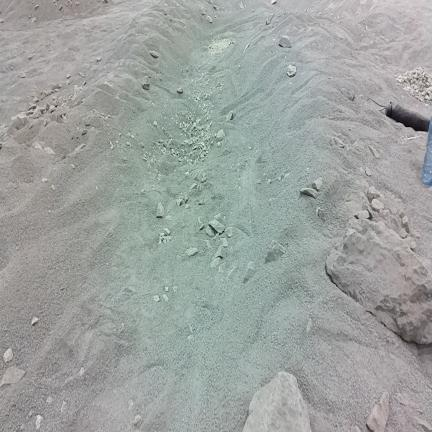Rock: (326, 219, 431, 343), (243, 372, 311, 431), (397, 68, 431, 104), (367, 392, 389, 431), (0, 367, 25, 388), (309, 413, 334, 431), (265, 241, 285, 263), (346, 198, 363, 215), (13, 113, 29, 130), (396, 393, 415, 406), (366, 186, 380, 202), (244, 262, 255, 282), (209, 219, 224, 233), (212, 245, 226, 260), (416, 418, 431, 431), (159, 228, 171, 244), (341, 88, 355, 101), (300, 188, 318, 198), (371, 199, 384, 212), (312, 177, 323, 191), (330, 137, 345, 147), (194, 170, 206, 182), (32, 107, 44, 119), (355, 210, 370, 219), (279, 36, 291, 47), (49, 112, 61, 123), (369, 146, 380, 158), (402, 215, 409, 233), (4, 348, 13, 362), (206, 225, 216, 237), (186, 247, 198, 257), (74, 143, 86, 153), (216, 129, 225, 142), (211, 257, 221, 268), (227, 266, 237, 277), (287, 65, 296, 77), (316, 207, 325, 219), (134, 415, 142, 428), (142, 76, 150, 89), (157, 203, 164, 217), (266, 13, 274, 25), (306, 319, 312, 333), (36, 415, 42, 429), (346, 91, 354, 101), (44, 147, 54, 155), (78, 366, 86, 376), (33, 142, 43, 150), (367, 206, 373, 219), (400, 229, 408, 238), (389, 206, 397, 215), (163, 4, 169, 15), (150, 51, 159, 58), (61, 401, 66, 413), (226, 227, 232, 237), (227, 110, 233, 120), (176, 198, 183, 206), (189, 183, 197, 190), (52, 83, 60, 90), (365, 167, 371, 176), (222, 238, 228, 247), (214, 213, 221, 220), (27, 410, 33, 418), (32, 317, 38, 325), (201, 6, 206, 15), (244, 44, 249, 53), (351, 426, 360, 431), (154, 295, 160, 302), (399, 211, 405, 218), (177, 87, 183, 94), (164, 228, 170, 235), (47, 396, 52, 404), (207, 15, 212, 23), (163, 294, 168, 302), (20, 72, 26, 78), (31, 17, 37, 23), (199, 224, 205, 230), (33, 97, 39, 103), (239, 2, 244, 9), (82, 129, 87, 135), (79, 72, 85, 77), (110, 141, 113, 149), (20, 424, 24, 430), (103, 0, 108, 4), (271, 0, 276, 4), (66, 74, 70, 79), (51, 185, 55, 190), (42, 178, 47, 182), (166, 286, 169, 292), (76, 1, 79, 7), (0, 19, 4, 23), (154, 121, 157, 126), (59, 5, 62, 10), (103, 0, 107, 3)
